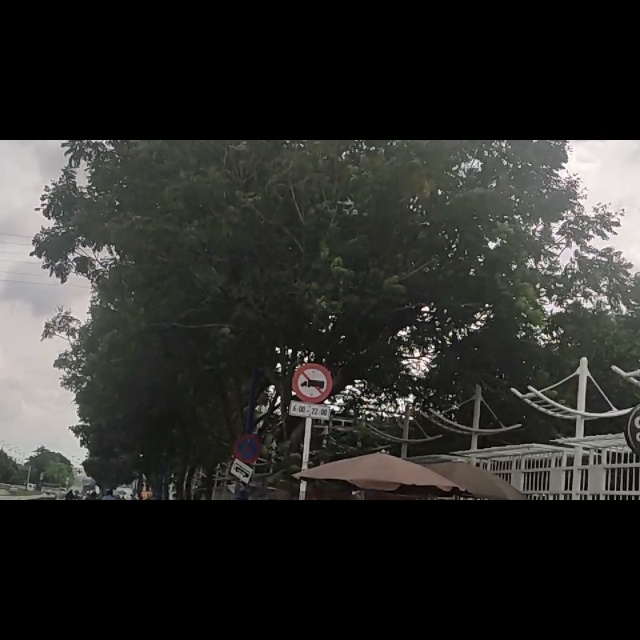bien_cam: (289, 399, 330, 495)
